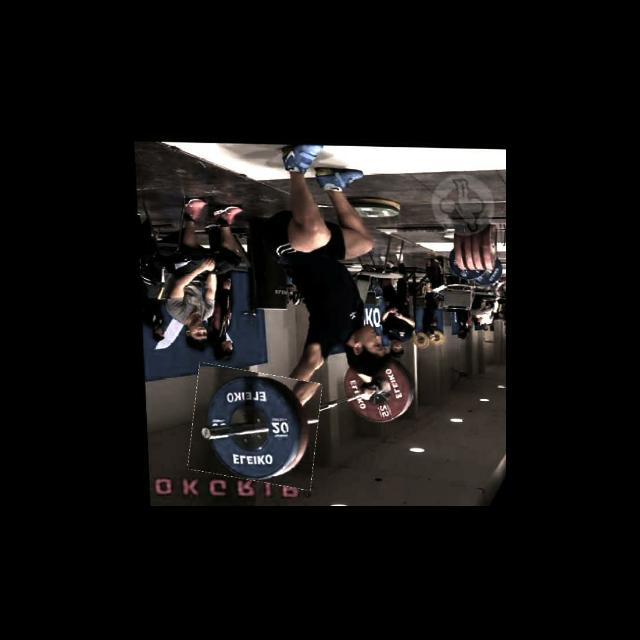barbell: (185, 366, 320, 485)
